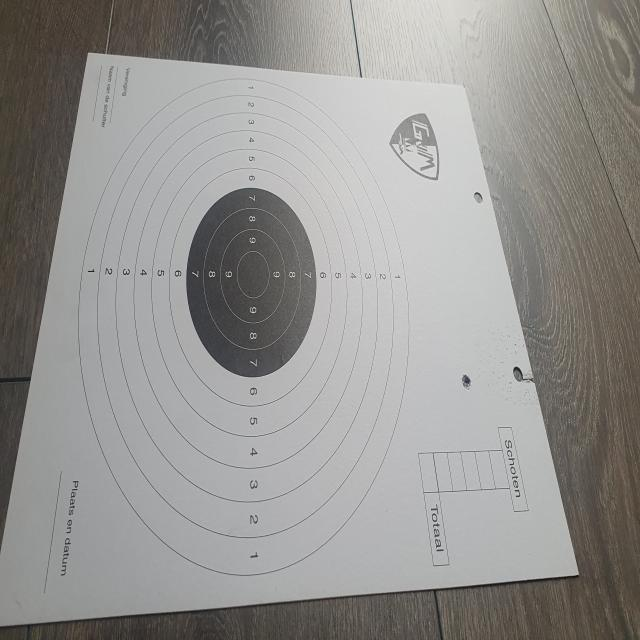0: (462, 370, 472, 392)
Target: (77, 70, 412, 586)
black_contour: (186, 186, 316, 378)
